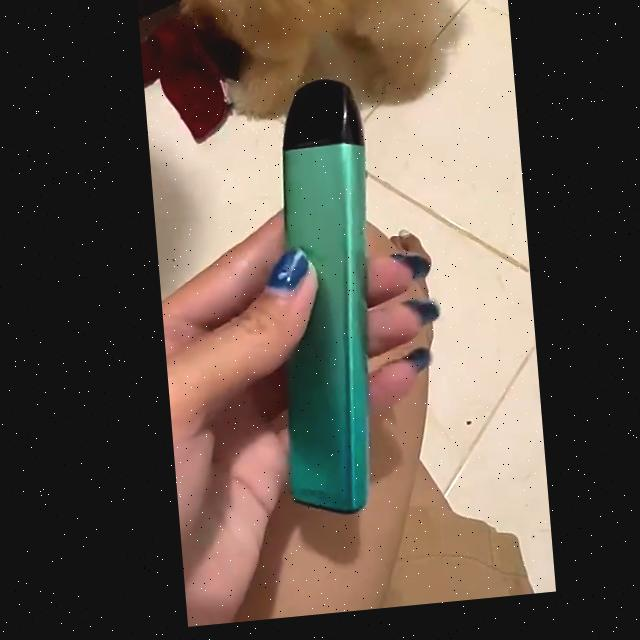vape: (254, 85, 385, 528)
